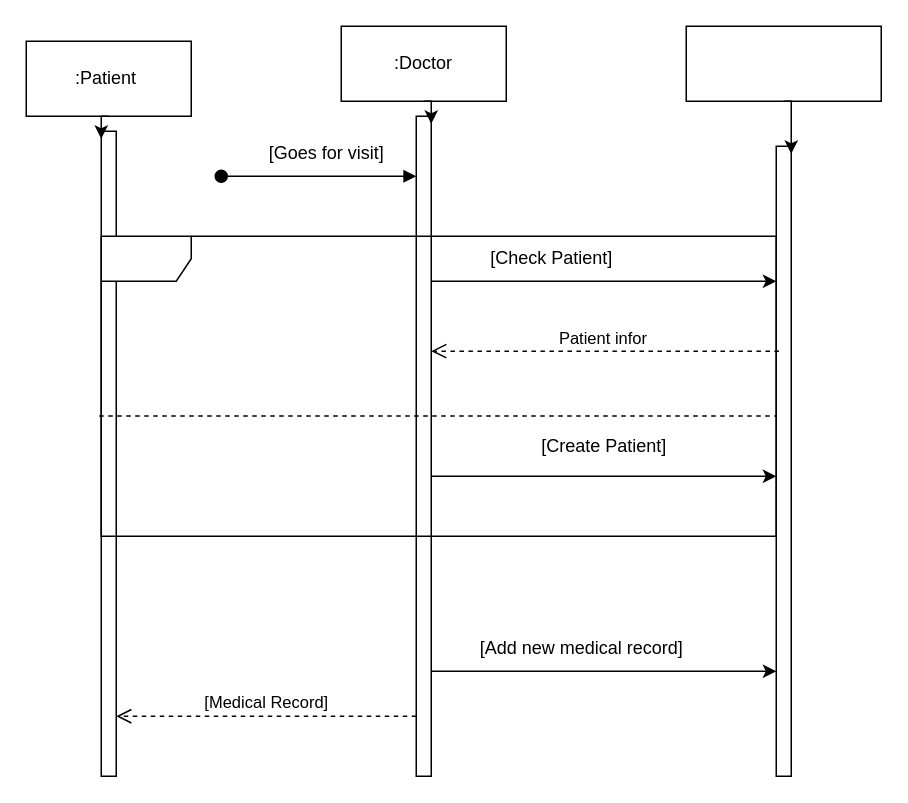
The diagram is 908 pixels wide and 803 high, and some of its shapes have lost their labels. Each missing label, with the box of its shape:
:System: (685, 25, 881, 101)
opt: (100, 235, 776, 536)
